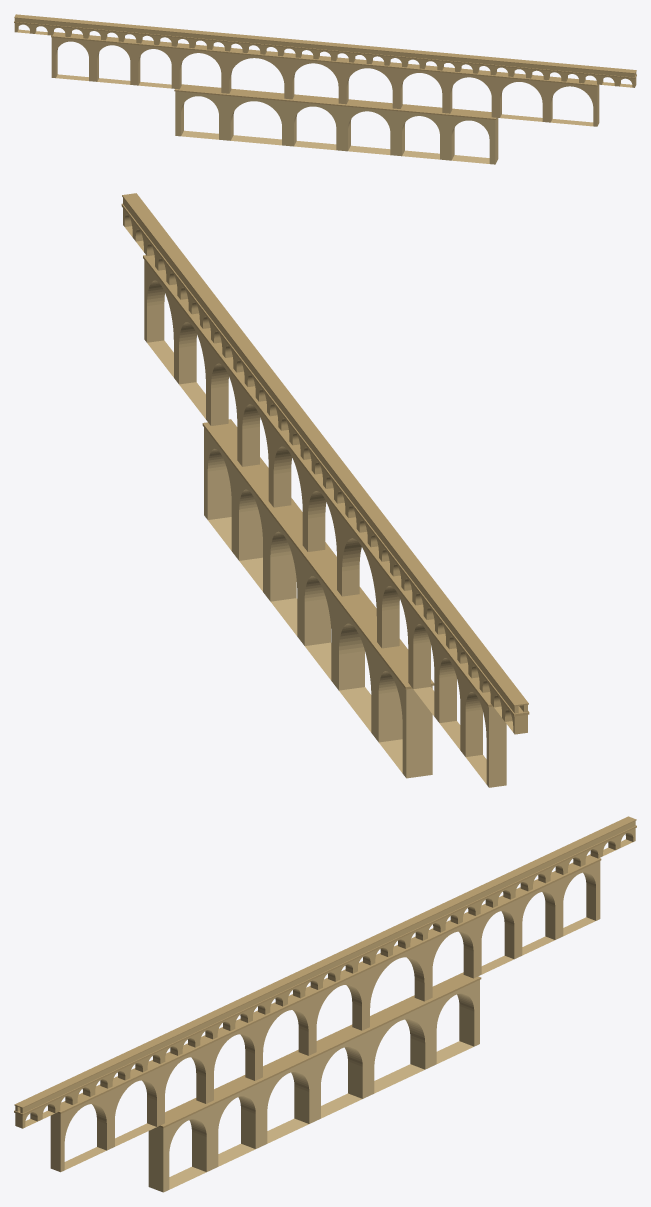
The model's file is pont-du-gard.glb.
3 views of the same model, one above another, from view 1: azimuth 30°, elevation 25°; view 2: azimuth 150°, elevation 25°; view 3: azimuth 270°, elevation 25° (orthographic). The views are drawn at different scales.
Size of the model in its own units: 20.72 by 4.91 by 18.7.
